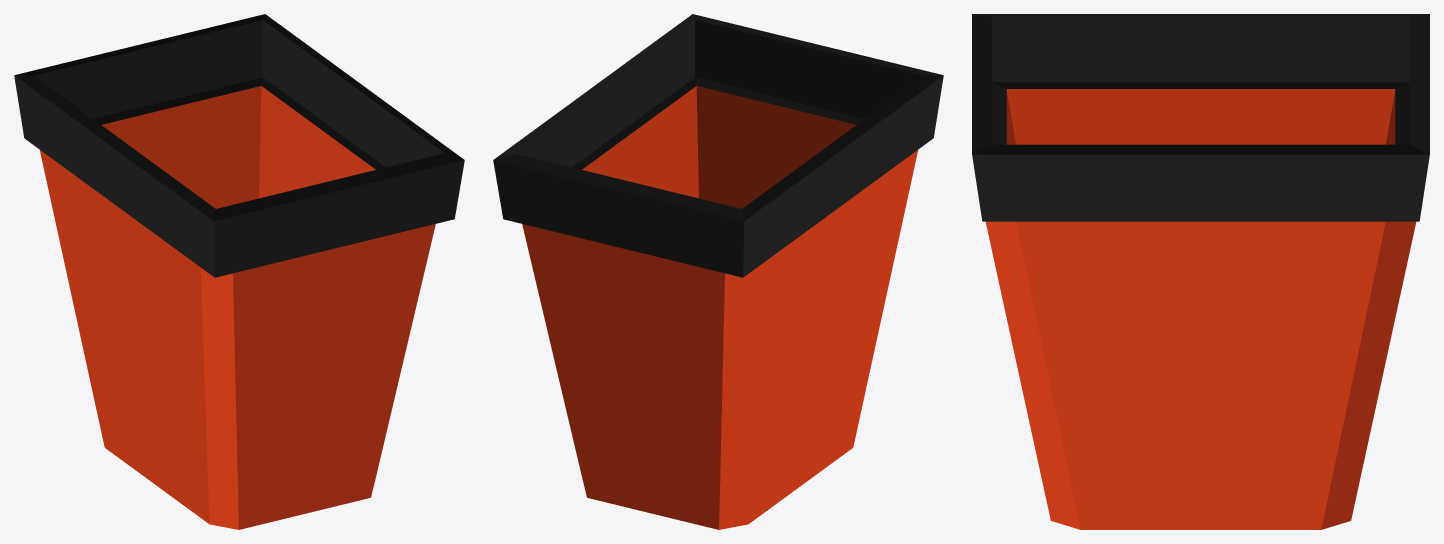
File: Trash Can 5.fbx
3 renders of one model, left to right at view 1: azimuth 30°, elevation 25°; view 2: azimuth 150°, elevation 25°; view 3: azimuth 270°, elevation 25°, orthographic. The views are drawn at different scales.
Visible parts, largest first — view 1: Node 0; view 2: Node 0; view 3: Node 0.
Boxes of the visible parts, box(x1,y1,x2,y2) form: Node 0: box(14, 14, 464, 529); Node 0: box(493, 14, 943, 529); Node 0: box(972, 14, 1429, 529).
Size of the model in its own units: 0.436 by 0.4238 by 0.3168.
